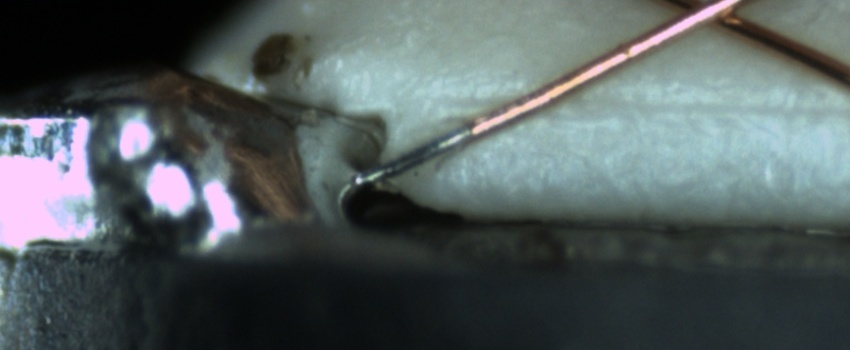CL: (651, 0, 759, 37)
DL: (440, 73, 850, 137)
TS: (349, 121, 473, 189)
TTCW: (349, 96, 535, 188)
